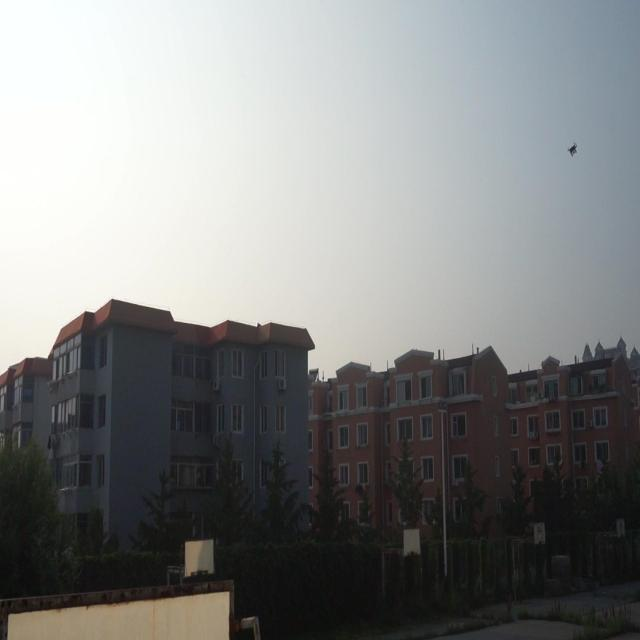drone: (566, 140, 580, 158)
